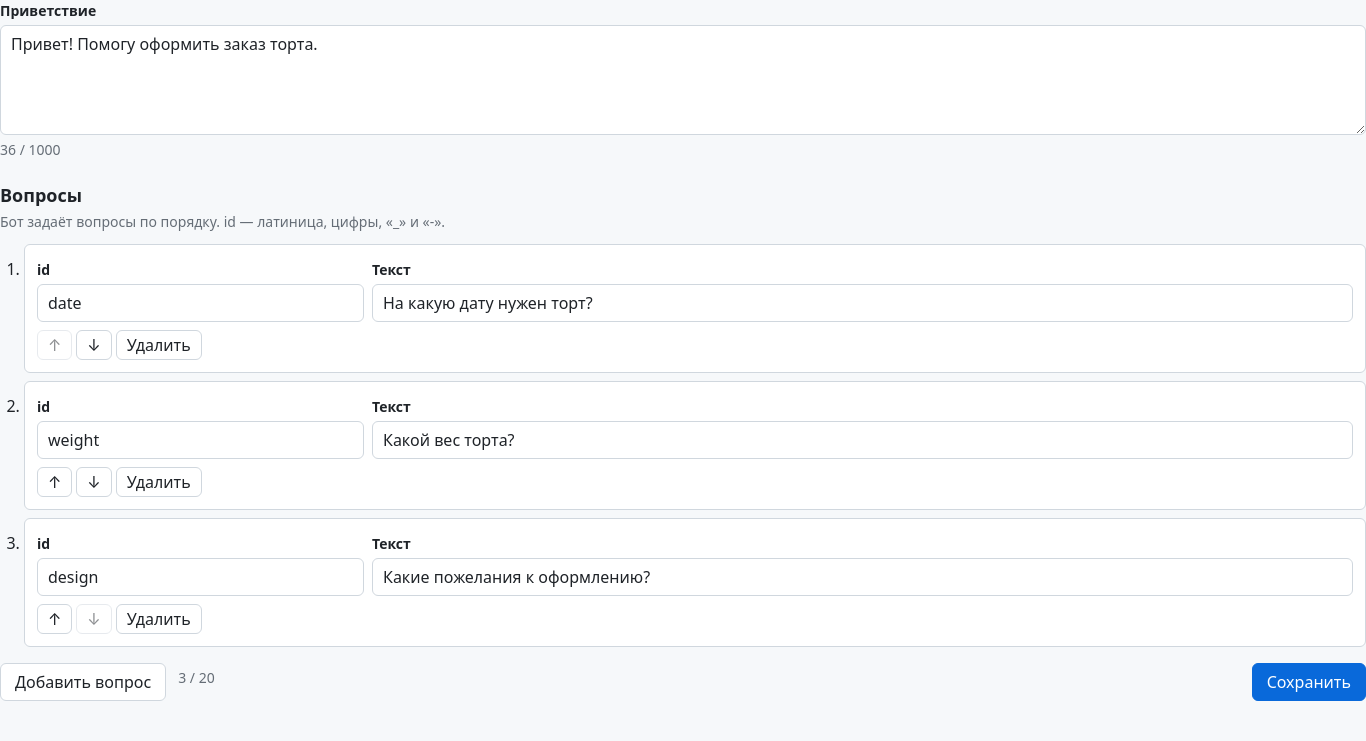
Test case: shows validation errors and does not send the survey
Clear the text box labelled "Приветствие": (683, 80) [0, 25, 1365, 135]
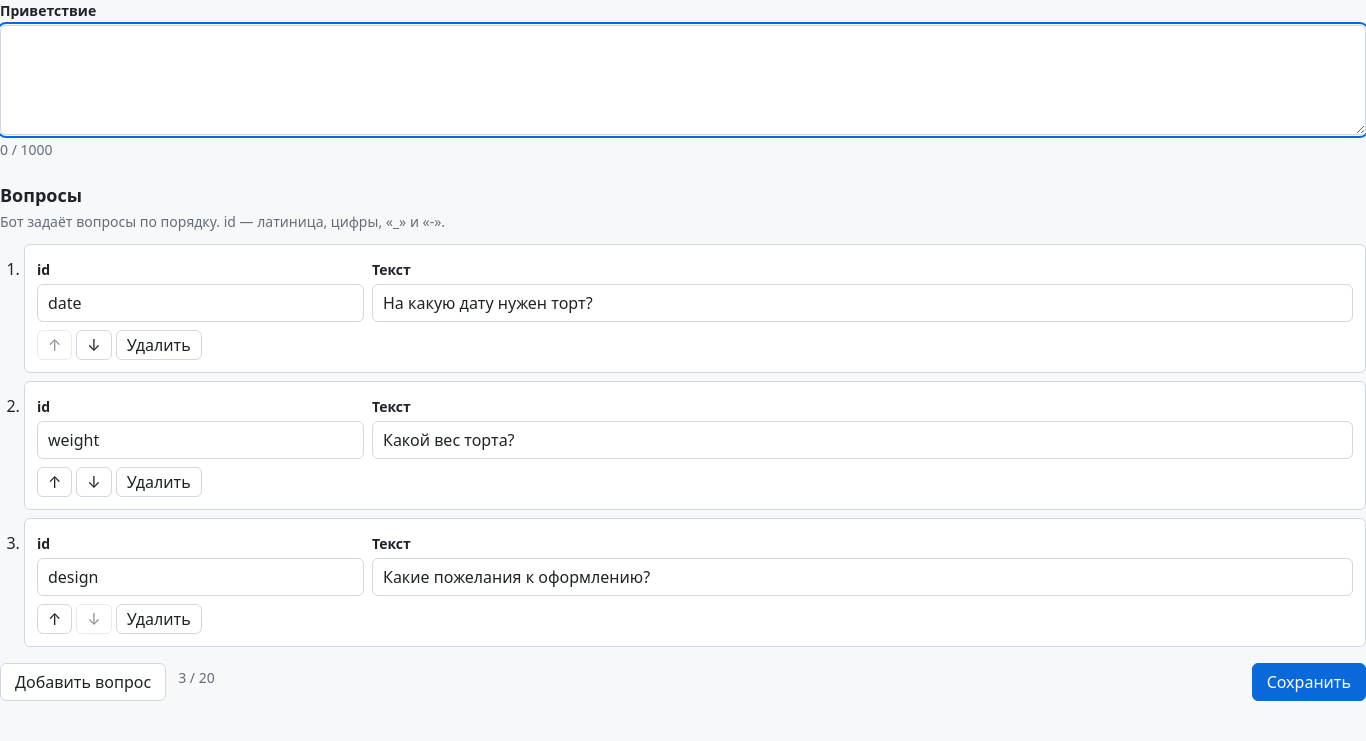
Replace the text in the 2nd field labelled "id" with "дата": (200, 440) [37, 420, 364, 458]
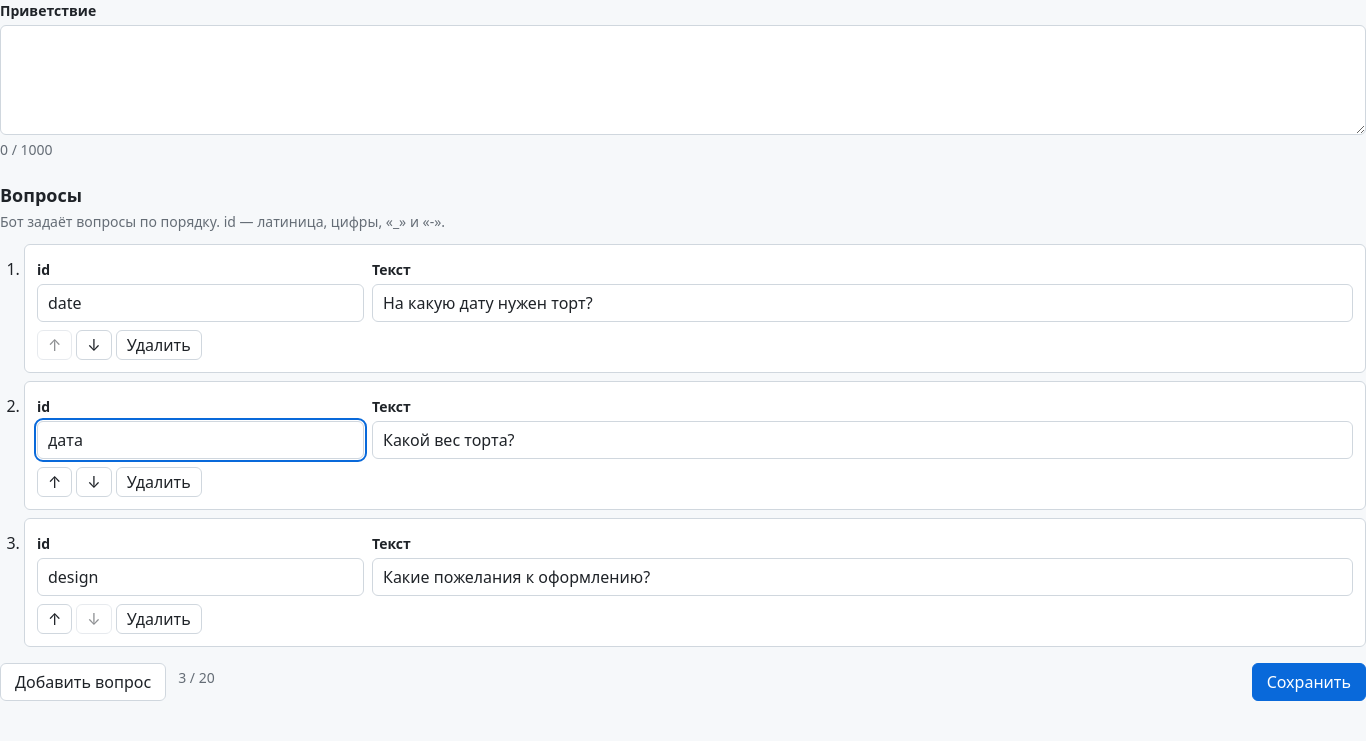
Click the button "Сохранить": (1309, 682) [1252, 662, 1365, 700]
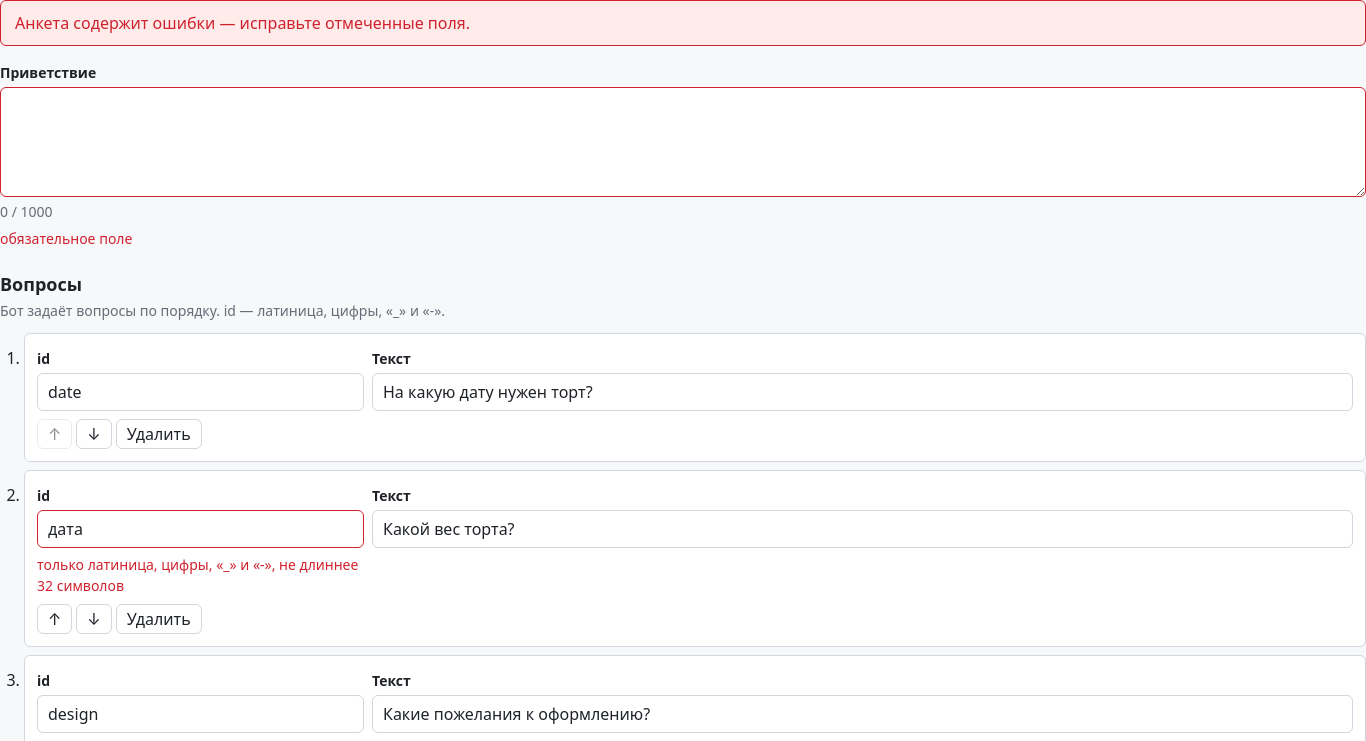
Check: the message shows "Анкета содержит ошибки", box [15, 12, 470, 34]
Check: the text "обязательное поле" is shown, box [0, 229, 132, 248]
Check: the text "только латиница, цифры, «_» и «-», не длиннее 32 символов" is shown, box [37, 554, 364, 596]
Note: The error moves with its question and disappears once the field is edited.
Click the button named "Выше": (55, 618) [37, 604, 72, 634]
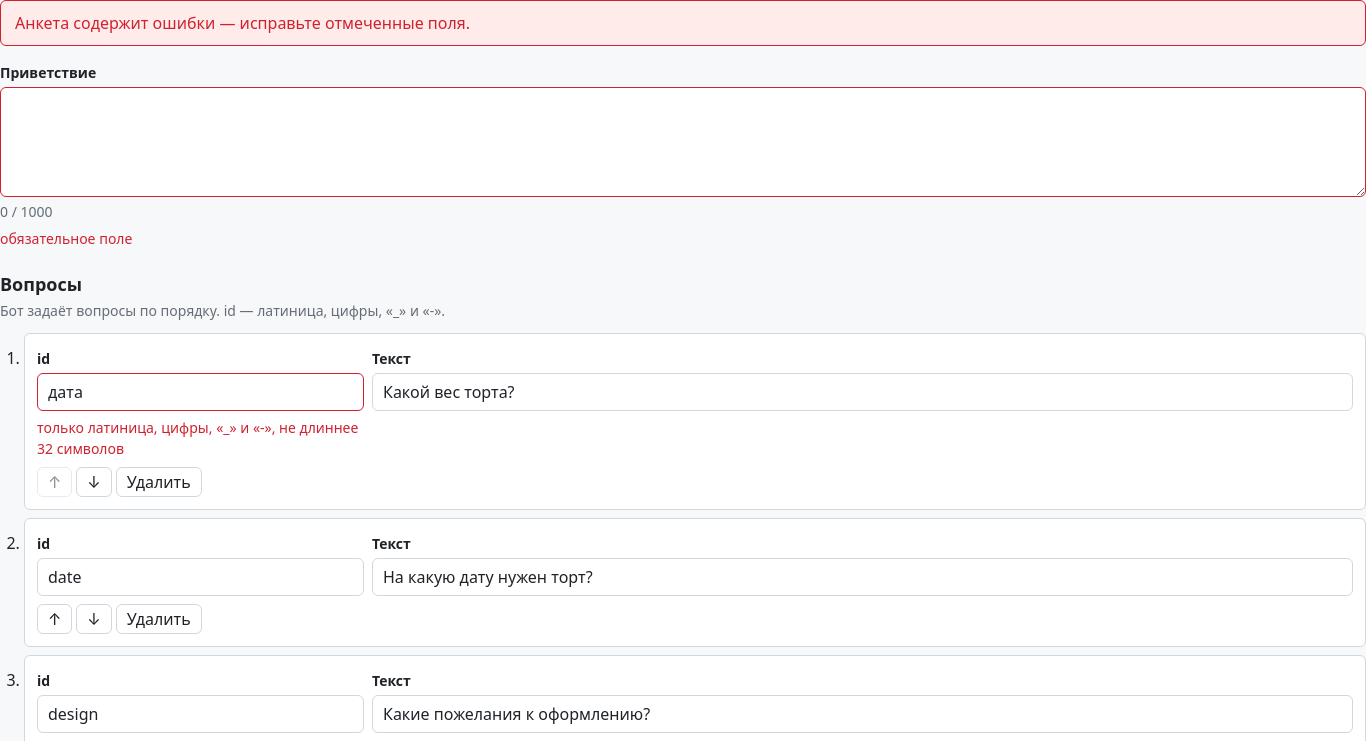
Check: the text "только латиница, цифры, «_» и «-», не длиннее 32 символов" is shown, box [37, 416, 364, 458]
In the 1st field labelled "id": (200, 392) [37, 372, 364, 410], type "x"
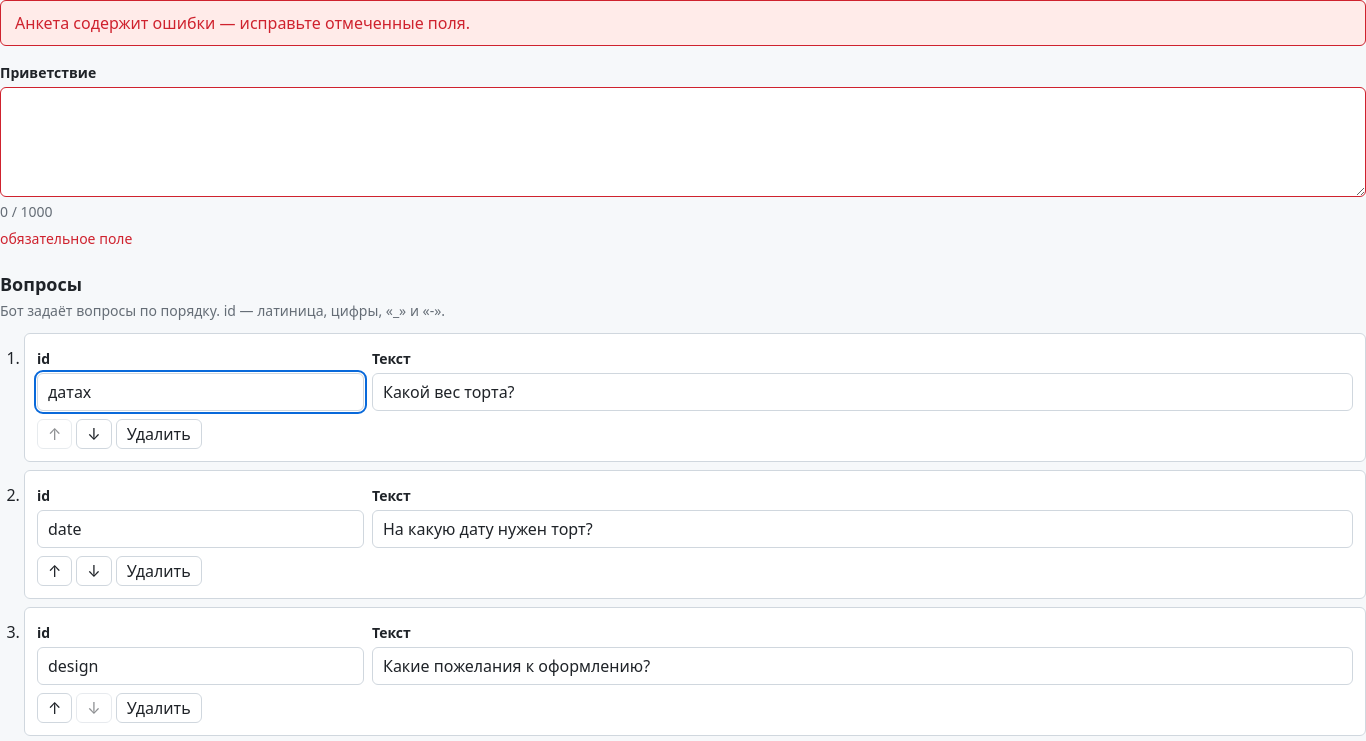
Check: the text "только латиница" is gone
